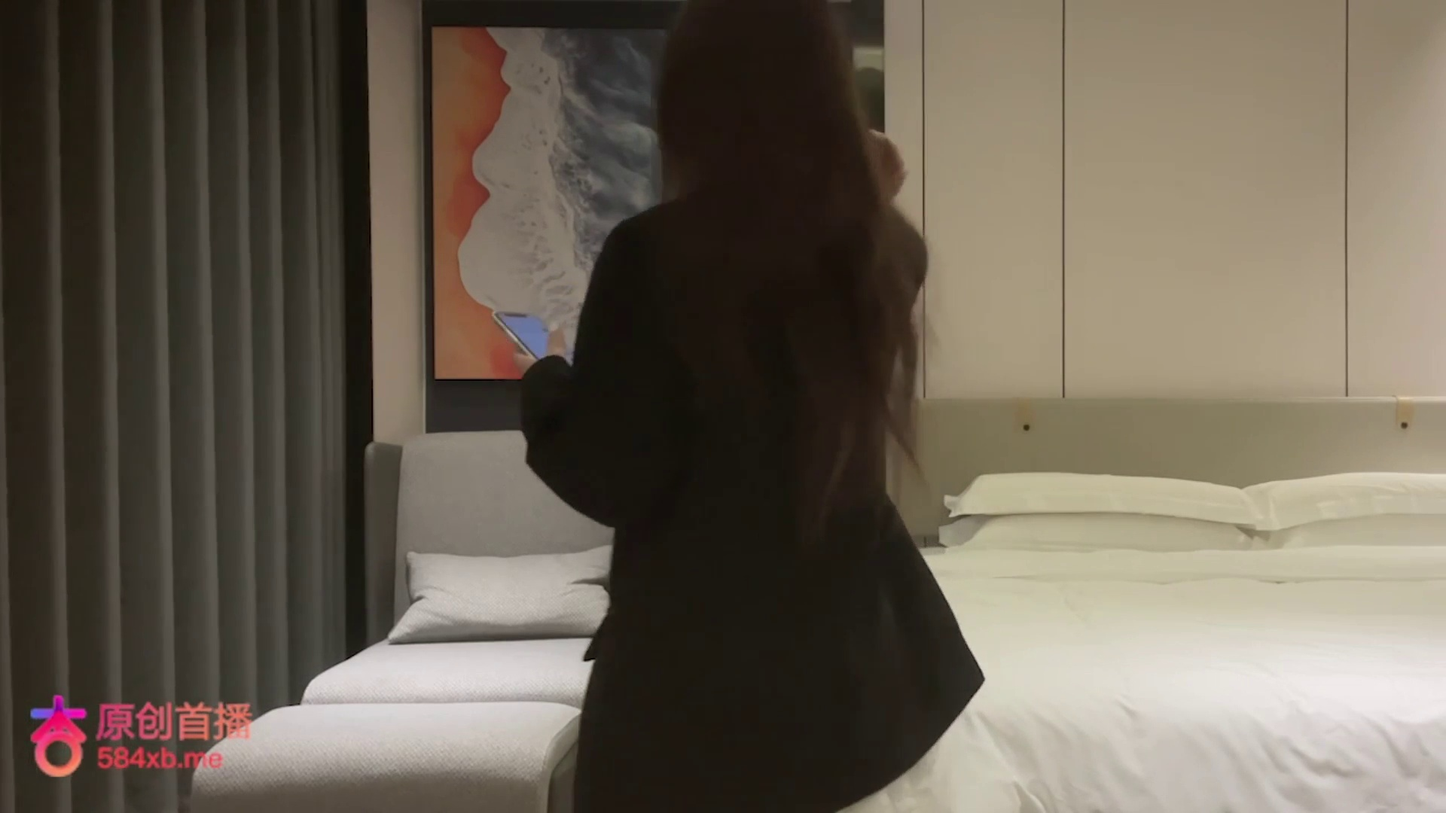stand: (514, 3, 978, 813)
